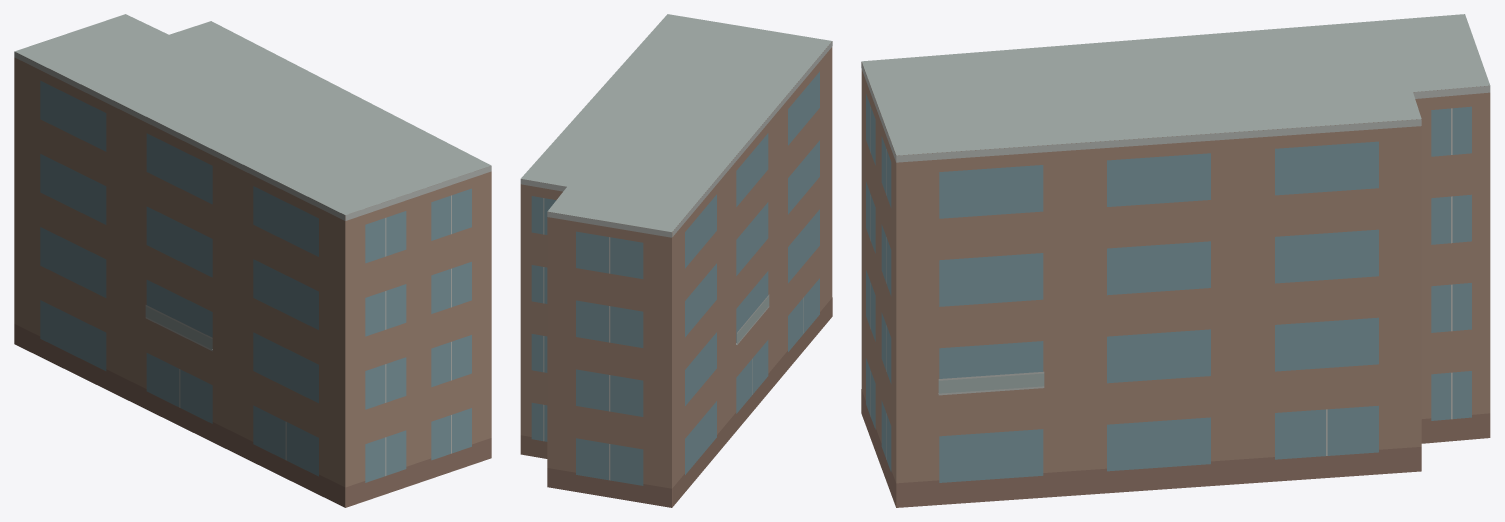
Rendered from survey-upis-32830410.glb.
The picture shows the model from 3 angles, left to right: view 1: azimuth 30°, elevation 25°; view 2: azimuth 150°, elevation 25°; view 3: azimuth 270°, elevation 25°; orthographic projection. The views are drawn at different scales.
Visible parts, largest first — view 1: survey-upis-32830410.tmp; view 2: survey-upis-32830410.tmp; view 3: survey-upis-32830410.tmp.
Part boxes in pixels (<box>): survey-upis-32830410.tmp: <box>14,14,491,507</box>; survey-upis-32830410.tmp: <box>520,14,832,507</box>; survey-upis-32830410.tmp: <box>861,14,1490,507</box>.
Bounding box in the file's own units: 10.53 × 12.2 × 19.75.
